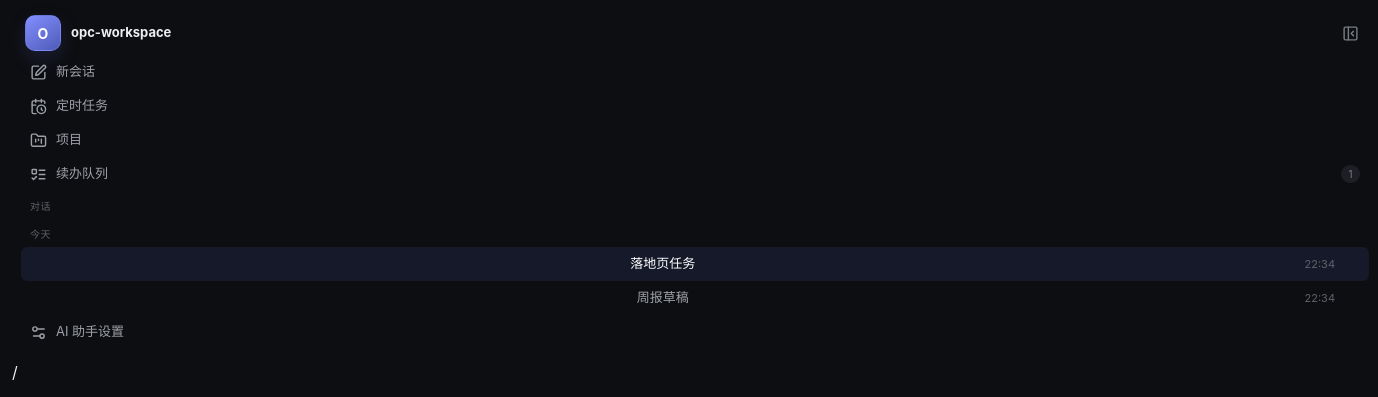
Test case: AiSessionRail › shows effective plan progress while preserving the historical replacement count
Click the button "续办队列 1".
click(82, 173)  # box x1=21 y1=157 x2=1369 y2=191
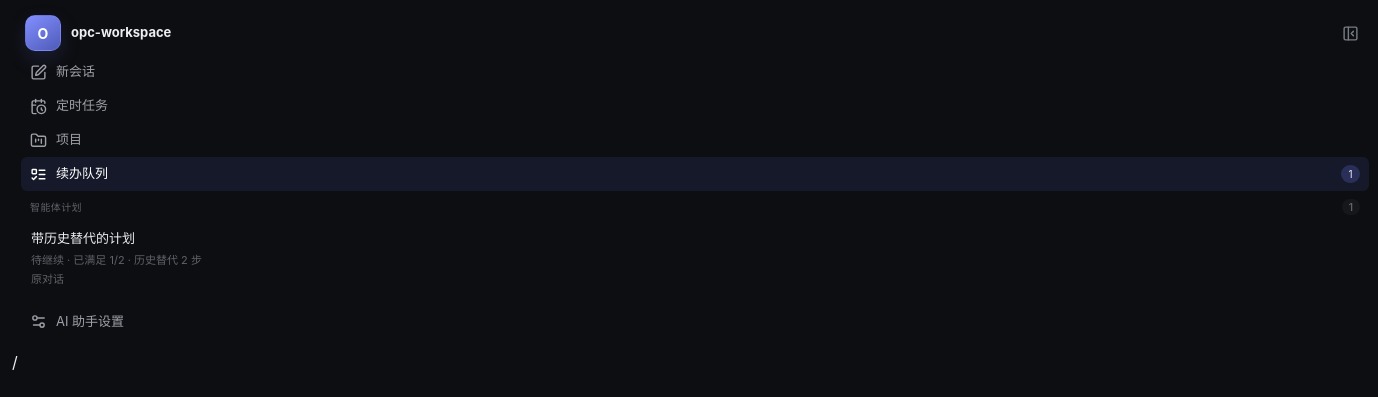
Expected: the text "待继续 · 已满足 1/2 · 历史替代 2 步" is shown, x1=31 y1=252 x2=202 y2=266
